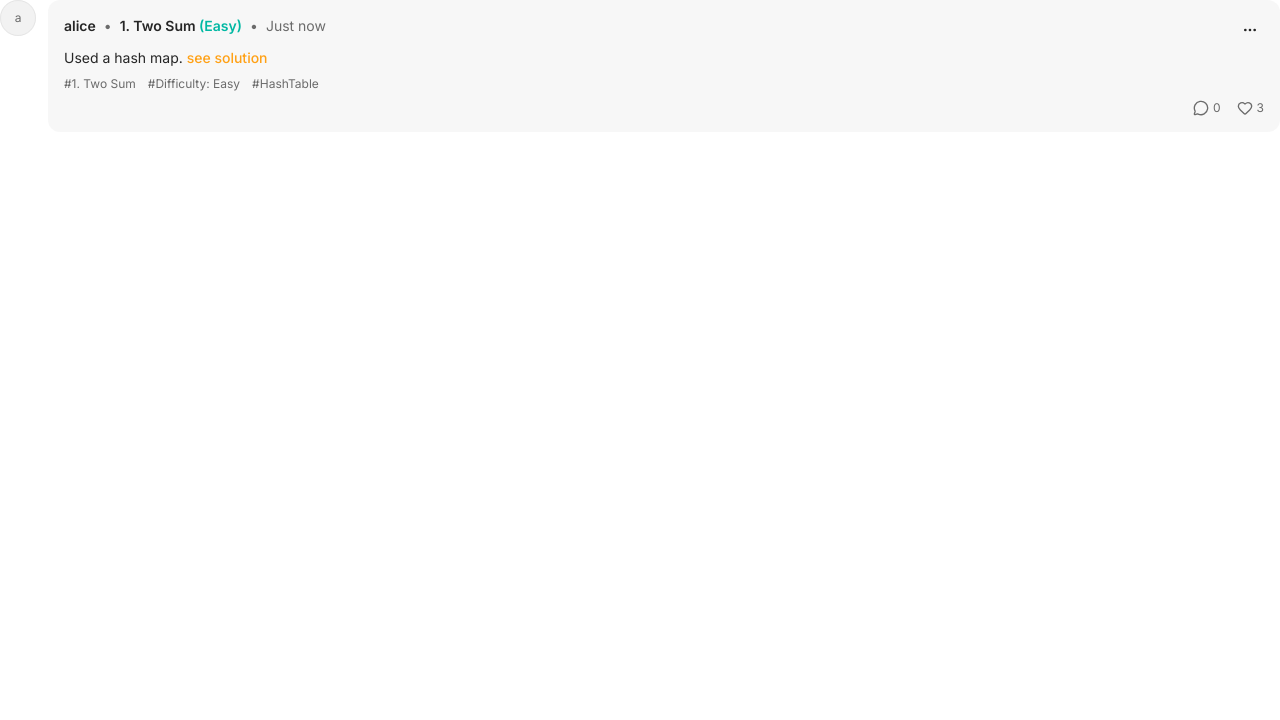
it: PostList › keeps a post when cancelled and removes it when deleted
Click the button named "Post options" at (1250, 30), box top-left (1236, 16), bottom-right (1264, 44)
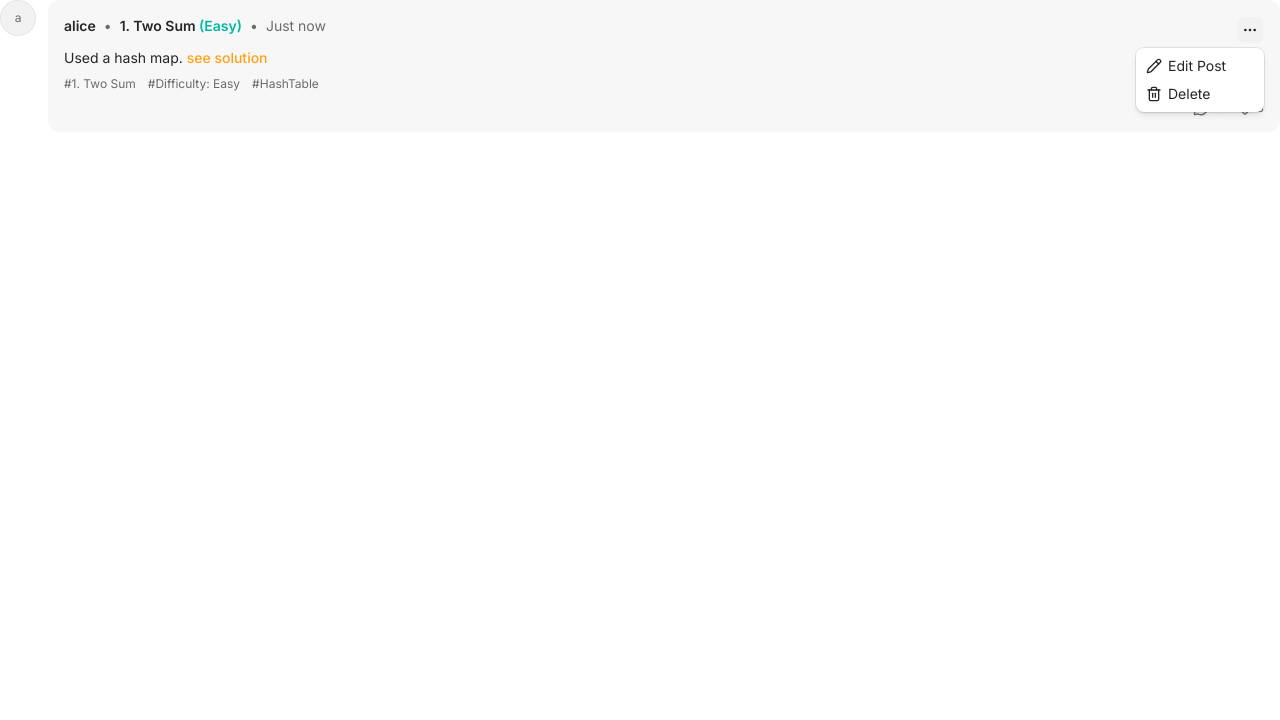
Click the menu item "Delete" at (1178, 94), box top-left (1146, 85), bottom-right (1210, 102)
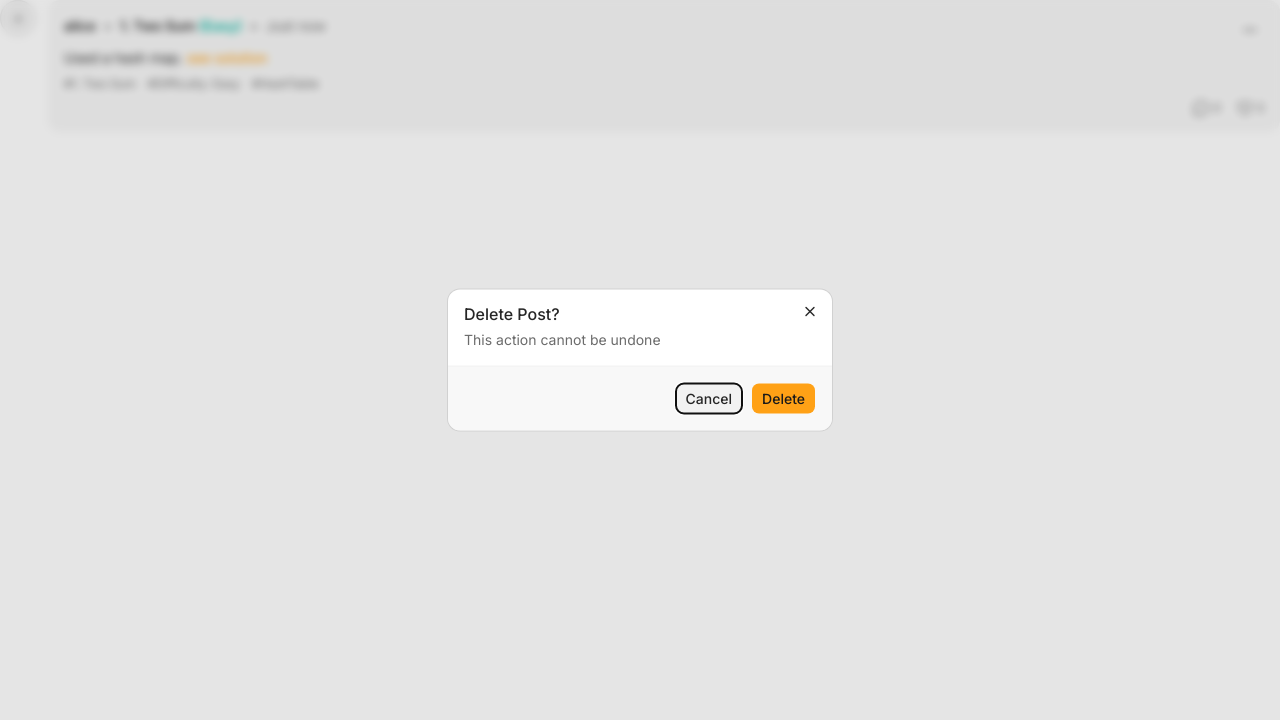
Click the button "Cancel" at (709, 398), box top-left (675, 382), bottom-right (743, 414)
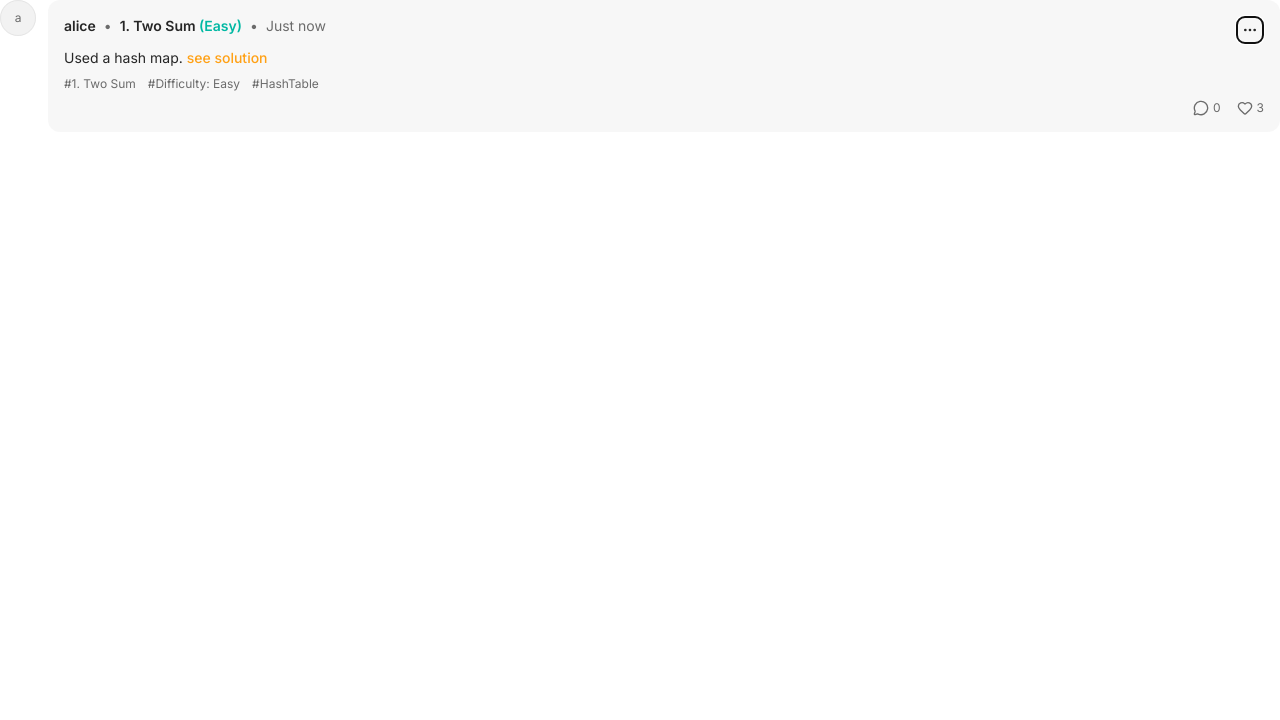
Expected: the link "1. Two Sum (Easy)" is shown, top-left (120, 17), bottom-right (242, 34)
Click the button named "Post options" at (1250, 30), box top-left (1236, 16), bottom-right (1264, 44)
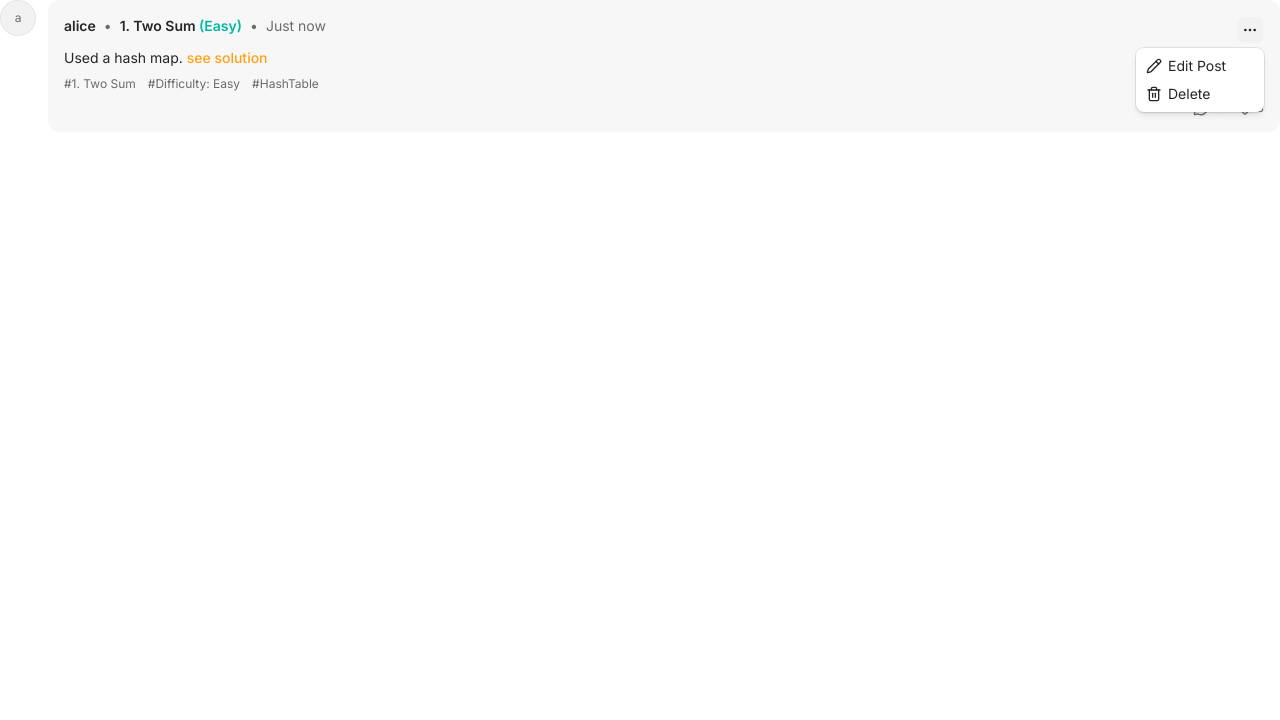
Click the menu item "Delete" at (1178, 94), box top-left (1146, 85), bottom-right (1210, 102)
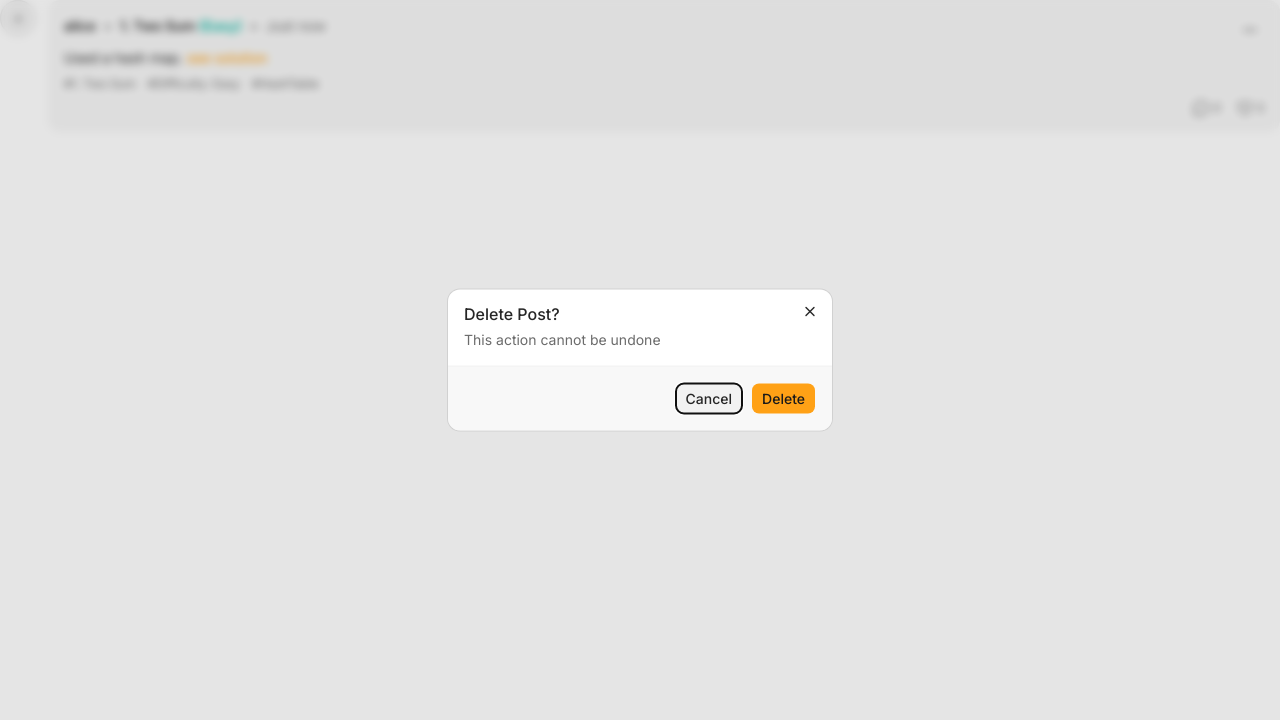
Click the button "Delete" at (784, 398), box top-left (751, 382), bottom-right (816, 414)
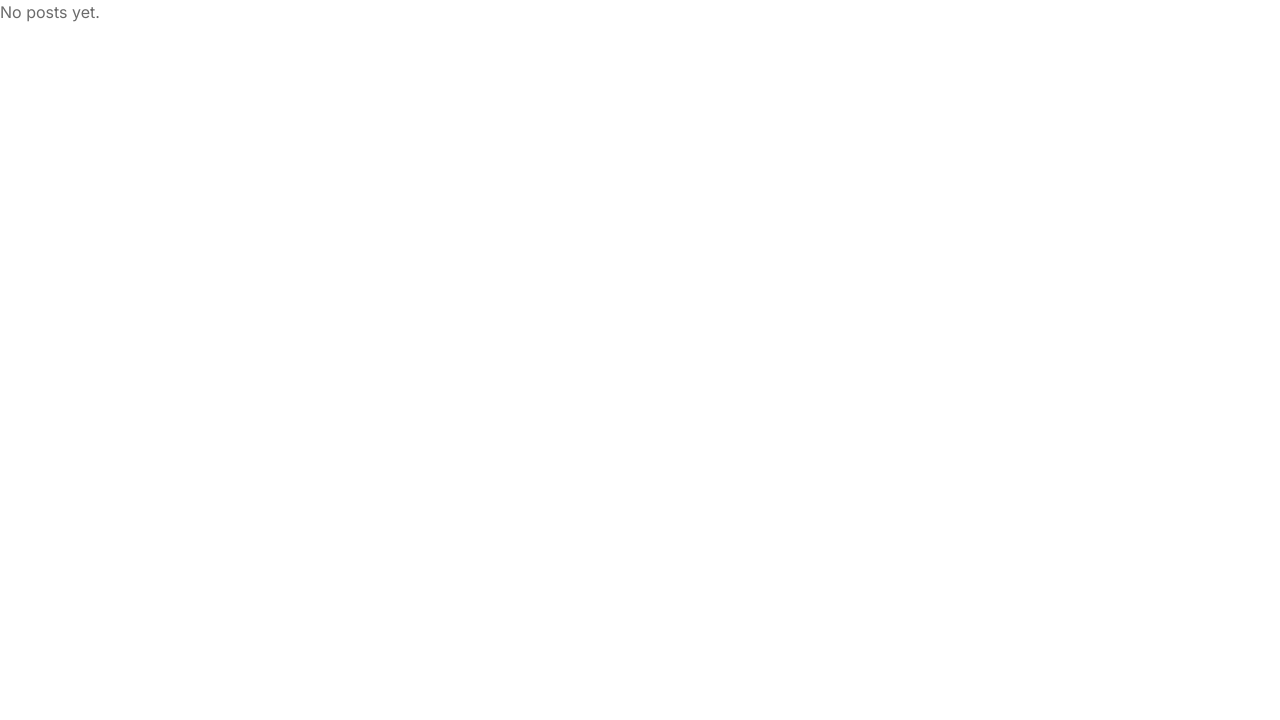
Now the link "Two Sum" is gone
